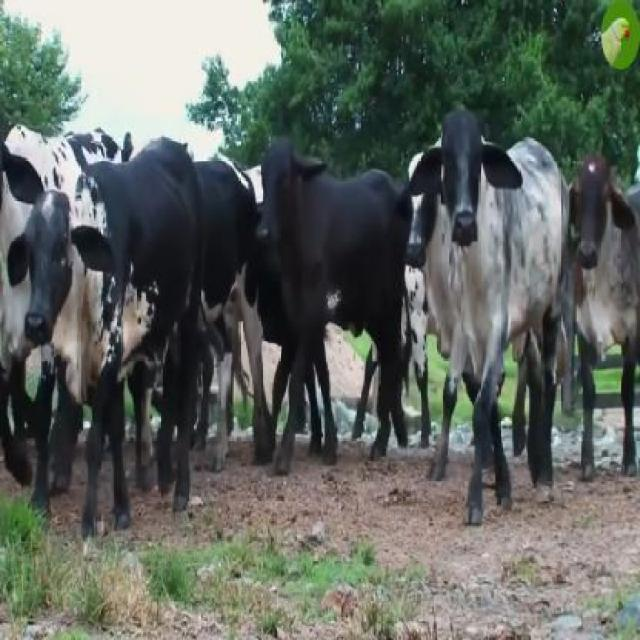Cow: (406, 111, 569, 549), (257, 137, 405, 469)
